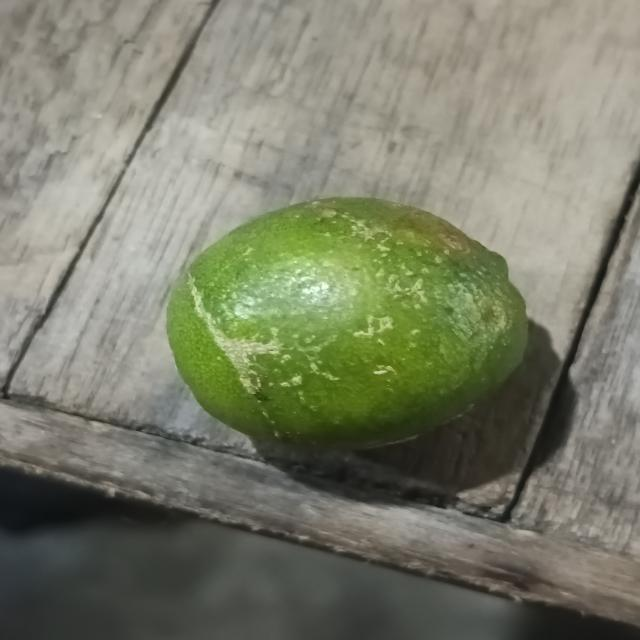thrips: (167, 193, 526, 451)
